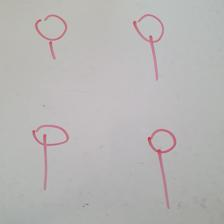location-dna: (32, 124, 70, 191), (148, 128, 176, 208), (134, 14, 164, 79), (36, 14, 65, 60)
